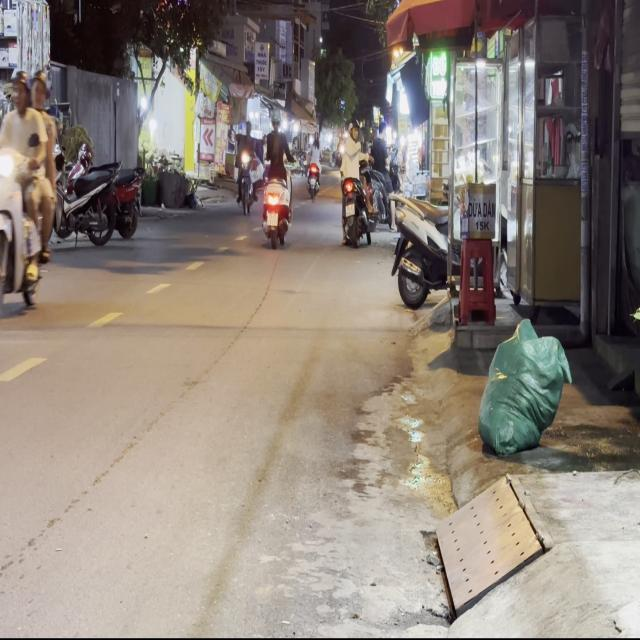helmet: (29, 67, 52, 111), (8, 68, 30, 110)
licenseplate: (0, 66, 57, 322)
